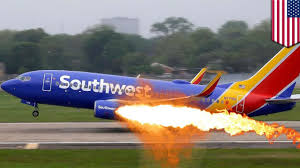maybay_dansu: (4, 51, 300, 137)
